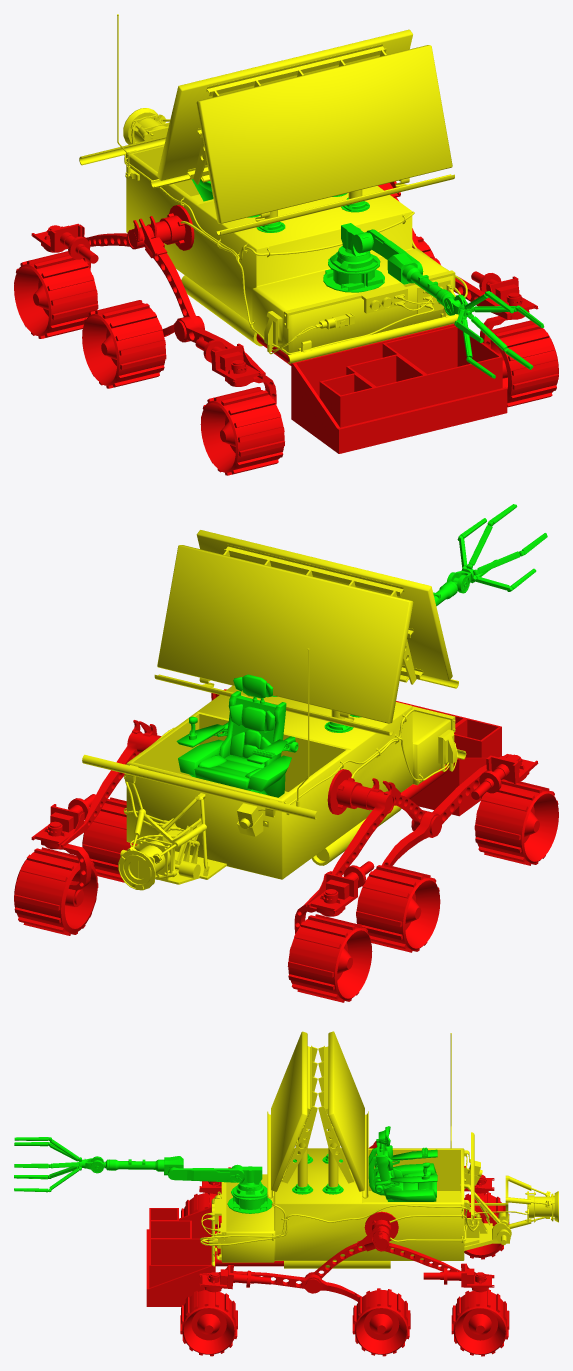
3 views of the same model, one above another, from view 1: azimuth 30°, elevation 25°; view 2: azimuth 150°, elevation 25°; view 3: azimuth 270°, elevation 25° (orthographic). The views are drawn at different scales.
Parts seen in each view (by area): view 1: Body, Wheel_5, Wheel_4, Wheel_6, Container_2, Container_small, Wheel_1, Container_3, Upper_knee_2, Container_madium, Container_big, Container_1 (+10 smaller); view 2: Body, Armchair, Wheel_6, Wheel_5, Wheel_4, Wheel_3, Upper_knee_2, Wheel_2, Container_small, Upper_knee_1, Lower_knee_2, Shock_absorber_4 (+6 smaller); view 3: Body, Armchair, Wheel_2, Wheel_3, Wheel_1, Container_2, Container_big, Upper_knee_1, Arm_knee_1, Lower_knee_1, Base, Shock_absorber_2 (+8 smaller).
Part boxes in pixels (x1,y1,x2,y2): Body: (79, 14, 467, 363); Wheel_5: (82, 300, 166, 388); Wheel_4: (200, 387, 284, 475); Wheel_6: (14, 251, 98, 338); Container_2: (382, 325, 502, 406); Container_small: (256, 334, 377, 453); Wheel_1: (490, 320, 558, 407); Container_3: (346, 354, 426, 418); Upper_knee_2: (61, 216, 204, 341); Container_madium: (331, 341, 428, 444); Container_big: (381, 324, 507, 432); Container_1: (319, 373, 375, 427); Body: (82, 530, 466, 890); Armchair: (176, 674, 298, 797); Wheel_6: (287, 914, 372, 1002); Wheel_5: (356, 864, 440, 952); Wheel_4: (474, 779, 558, 865); Wheel_3: (14, 847, 98, 935); Upper_knee_2: (304, 778, 442, 906); Wheel_2: (82, 797, 133, 882); Container_small: (400, 756, 502, 816); Upper_knee_1: (61, 720, 160, 847); Lower_knee_2: (381, 754, 509, 865); Shock_absorber_4: (307, 861, 374, 915); Body: (200, 1031, 558, 1268); Armchair: (368, 1126, 437, 1201); Wheel_2: (352, 1288, 410, 1356); Wheel_3: (451, 1289, 509, 1356); Wheel_1: (180, 1289, 237, 1356); Container_2: (149, 1238, 211, 1287); Container_big: (146, 1246, 283, 1306); Upper_knee_1: (305, 1223, 494, 1293); Arm_knee_1: (168, 1167, 244, 1182); Lower_knee_1: (199, 1265, 361, 1301); Base: (227, 1182, 272, 1213); Shock_absorber_2: (423, 1263, 494, 1291).
Bounding box in the file's own units: 31.83 × 30.2 × 64.02.
